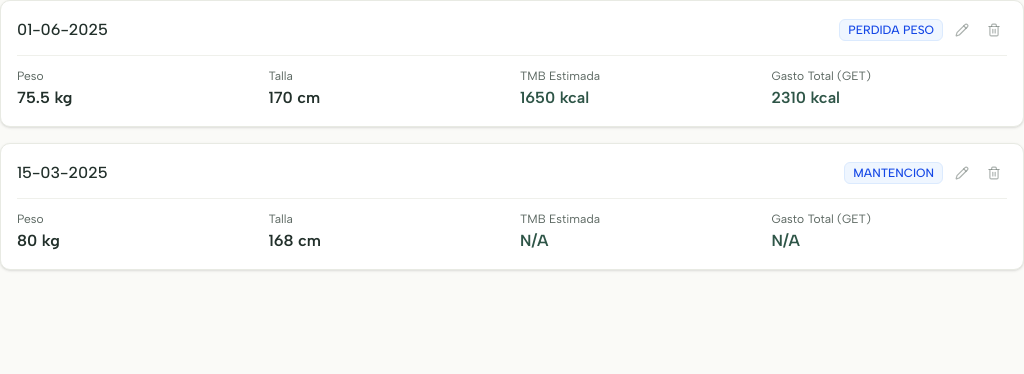
Test: HistorialEvaluaciones › al hacer clic en Cancelar, la tarjeta vuelve al modo de visualización
Click the button named "editar evaluación" next to "perdida peso" at (962, 30), box [949,17,975,43]
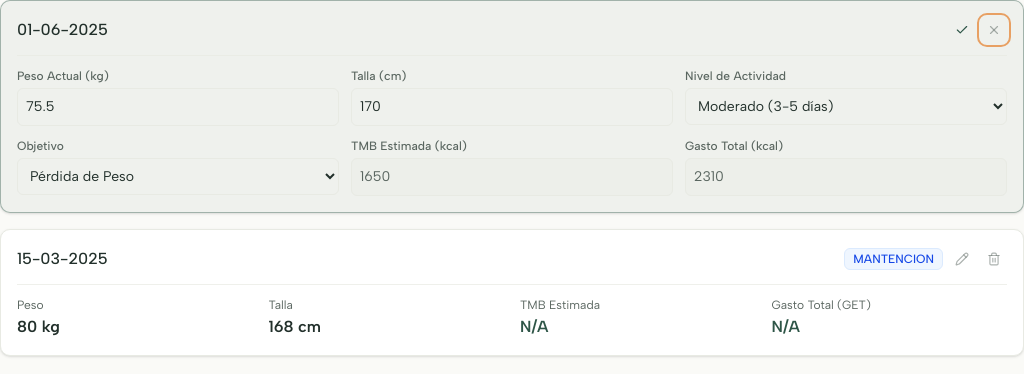
Result: the number field named "peso actual" is shown at [17,88,339,126]
Click the button named "cancelar edición" at (994, 30), box [981,17,1007,43]
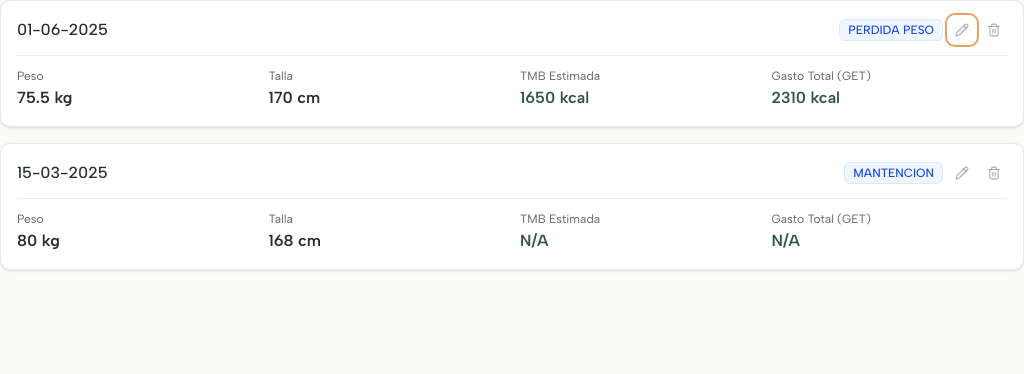
Result: the label "Peso Actual" is gone
Result: the text "75.5 kg" is shown at [17,88,72,107]
